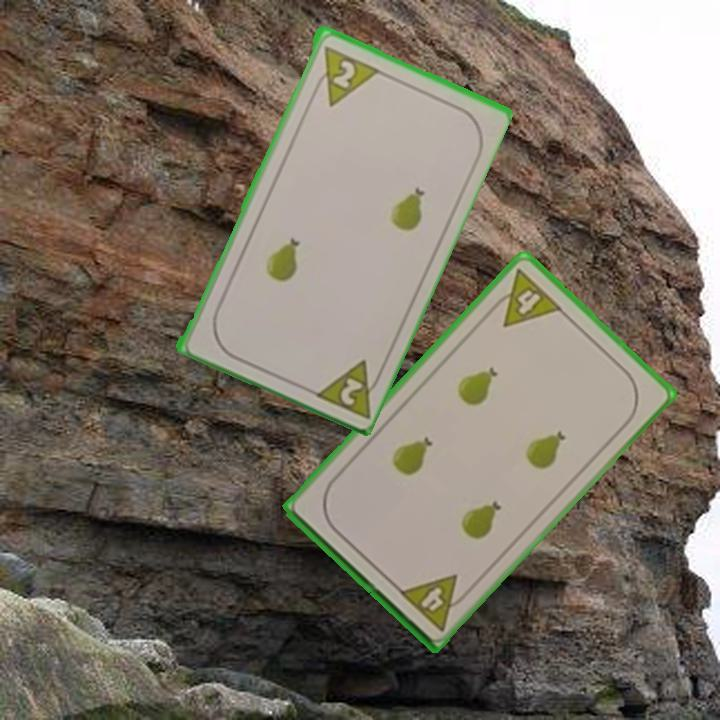2p: (308, 354, 387, 421), (309, 41, 380, 109)
4p: (484, 264, 565, 330), (395, 570, 474, 634)
